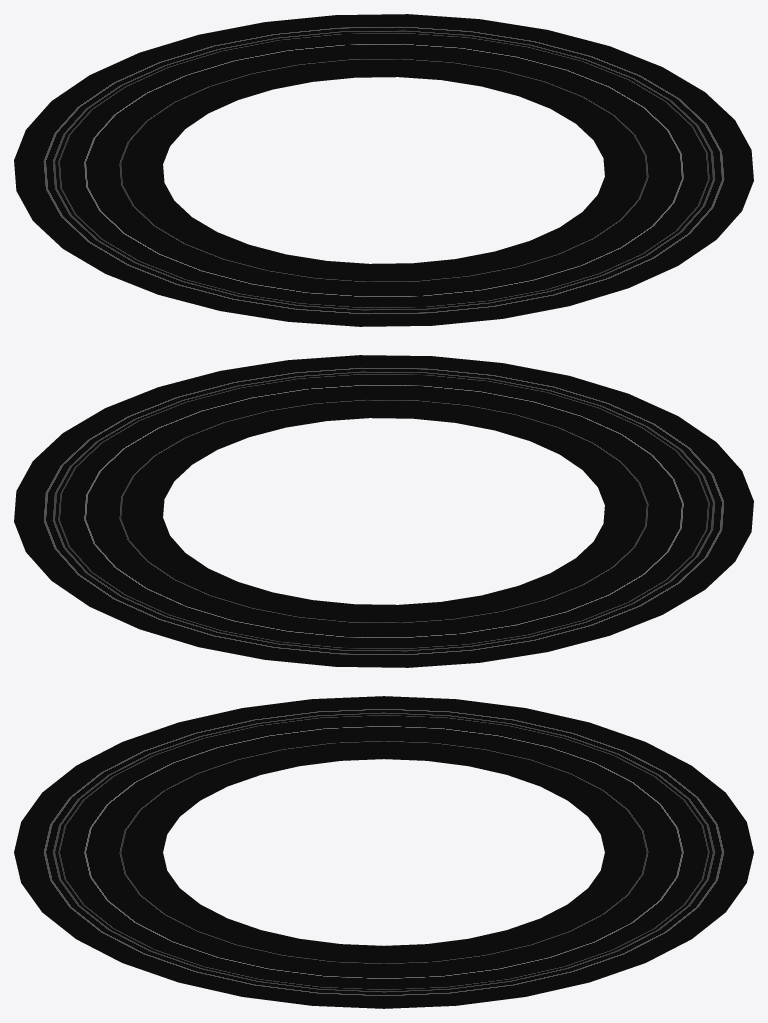
The model's file is neptune_ring.glb.
3 views of the same model, one above another, from view 1: azimuth 30°, elevation 25°; view 2: azimuth 150°, elevation 25°; view 3: azimuth 270°, elevation 25° (orthographic).
Visible parts, largest first — view 1: Cylinder; view 2: Cylinder; view 3: Cylinder.
Part boxes in pixels (box(x1,y1,x2,y2)): Cylinder: box(14, 14, 753, 326); Cylinder: box(14, 355, 753, 667); Cylinder: box(14, 696, 753, 1008).
Bounding box in the file's own units: 5.4 × 0 × 5.4.
1 material, 1 textured.
